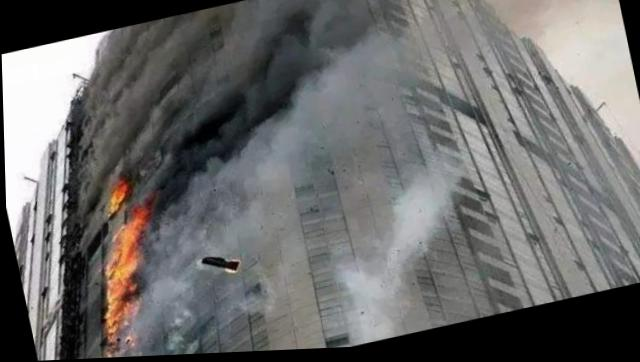fire: (59, 161, 191, 359)
